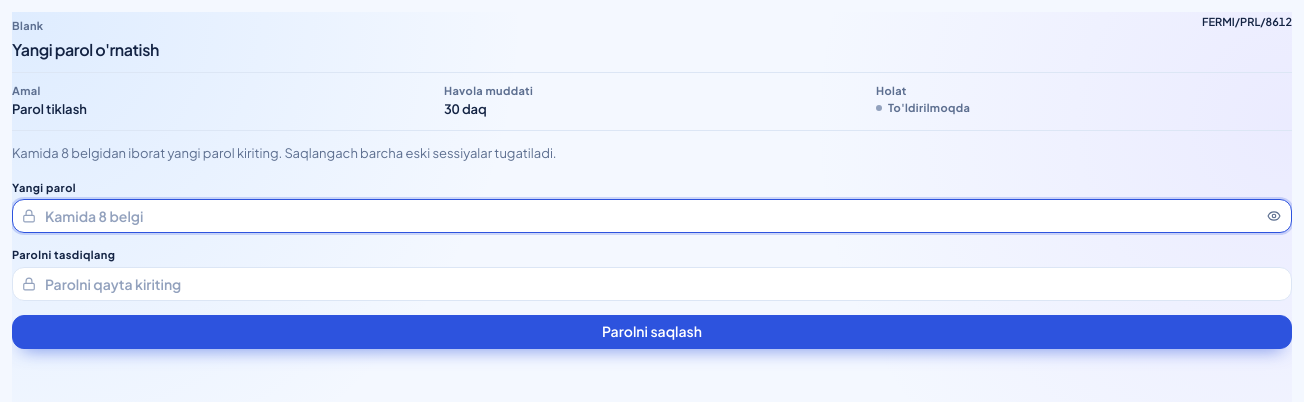
ResetPasswordPage › tasdiq xatosi parol to'g'rilangach darhol yo'qoladi
Type "parol12345" into the password field labelled "Yangi parol" at [652, 216], box [12,199,1292,233]
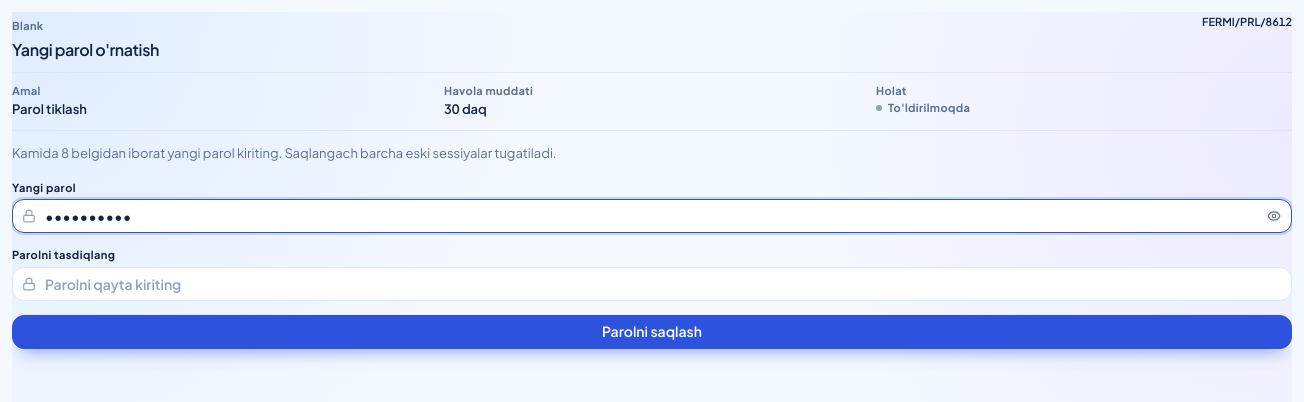
Type "parol1" into the password field labelled "Parolni tasdiqlang" at [652, 284], box [12,267,1292,301]
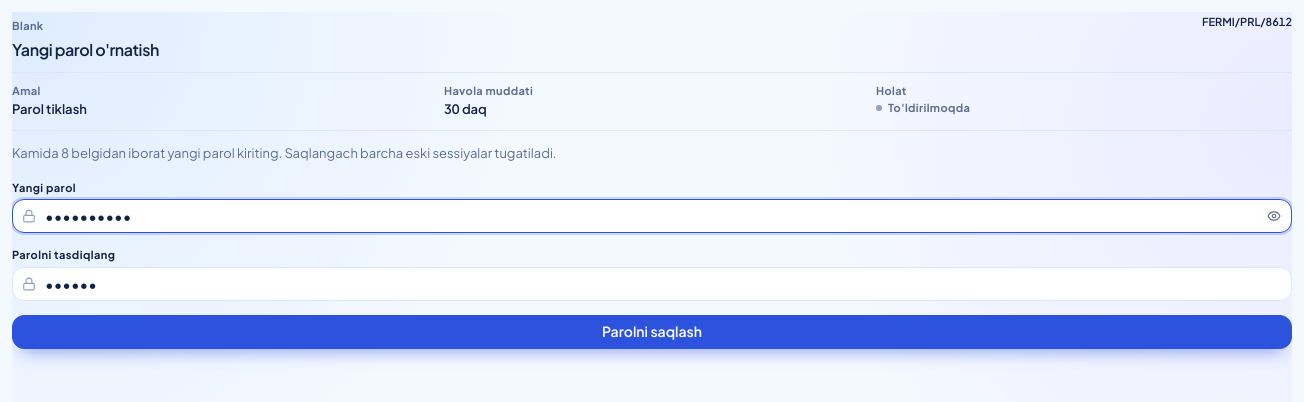
Click the button "Parolni saqlash" at [652, 332], box [12,315,1292,349]
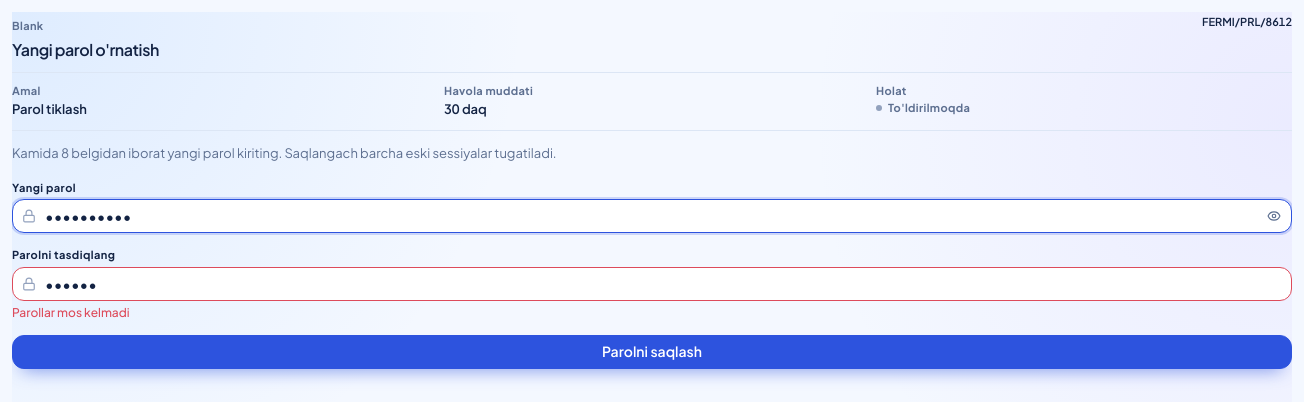
Expected: the text "Parollar mos kelmadi" is shown, [12,305,130,320]
Type "parol12345" into the password field labelled "Parolni tasdiqlang" at [652, 284], box [12,267,1292,301]
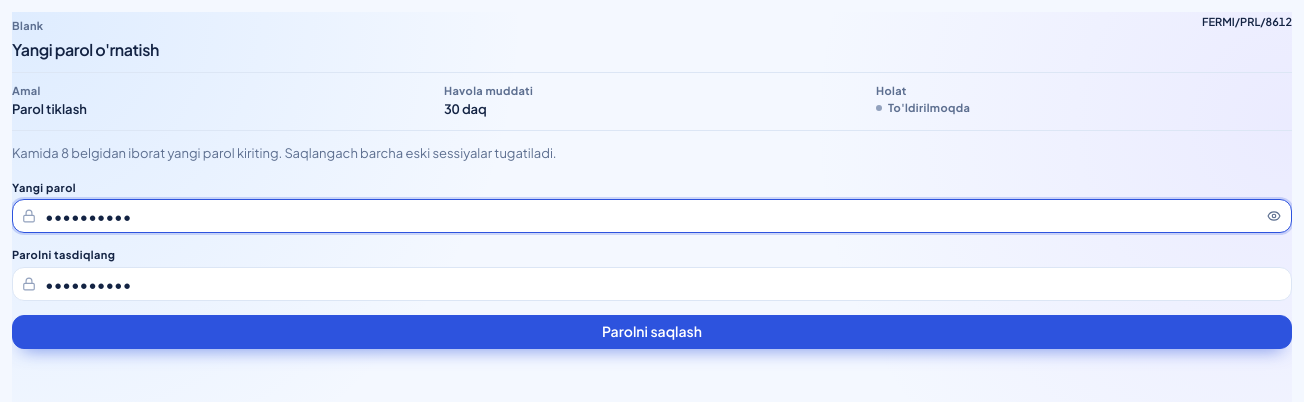
Expected: the text "Parollar mos kelmadi" is gone
